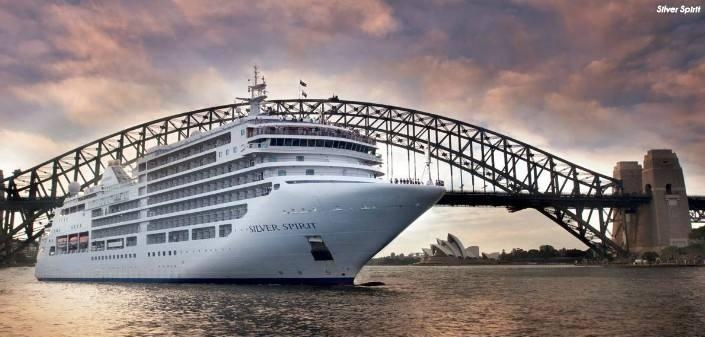youlun: (35, 95, 441, 284)
